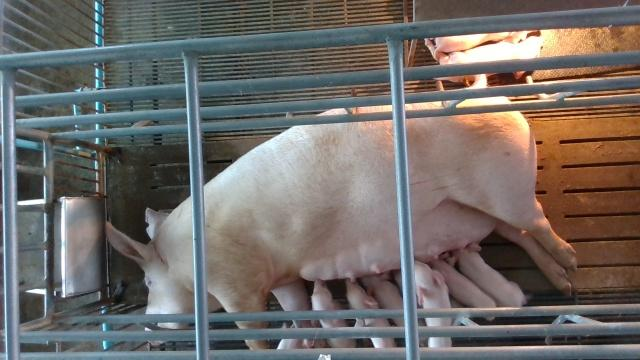piglet: (447, 243, 526, 307), (433, 36, 544, 79), (427, 260, 496, 321), (347, 279, 398, 348), (414, 260, 453, 347), (311, 279, 356, 348), (362, 270, 403, 327)
sow-sleep-lactate: (104, 87, 575, 352)
